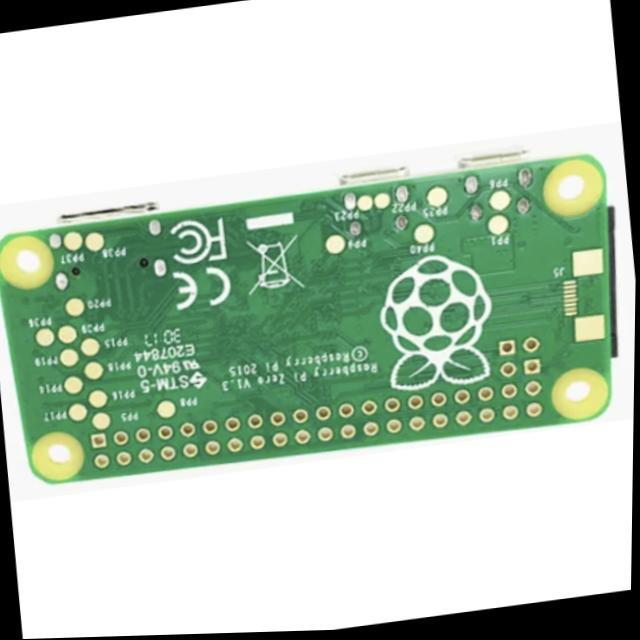Raspberry-Pi-Zero: (1, 155, 610, 484)
